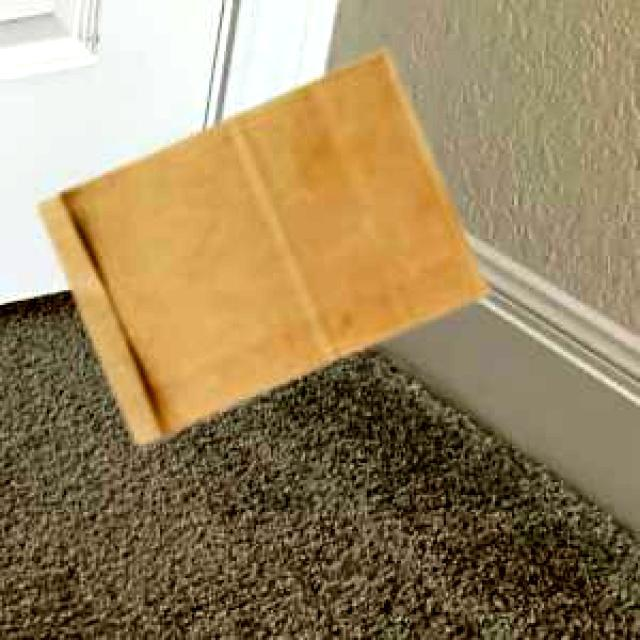Paper_Bag: (36, 48, 486, 441)
